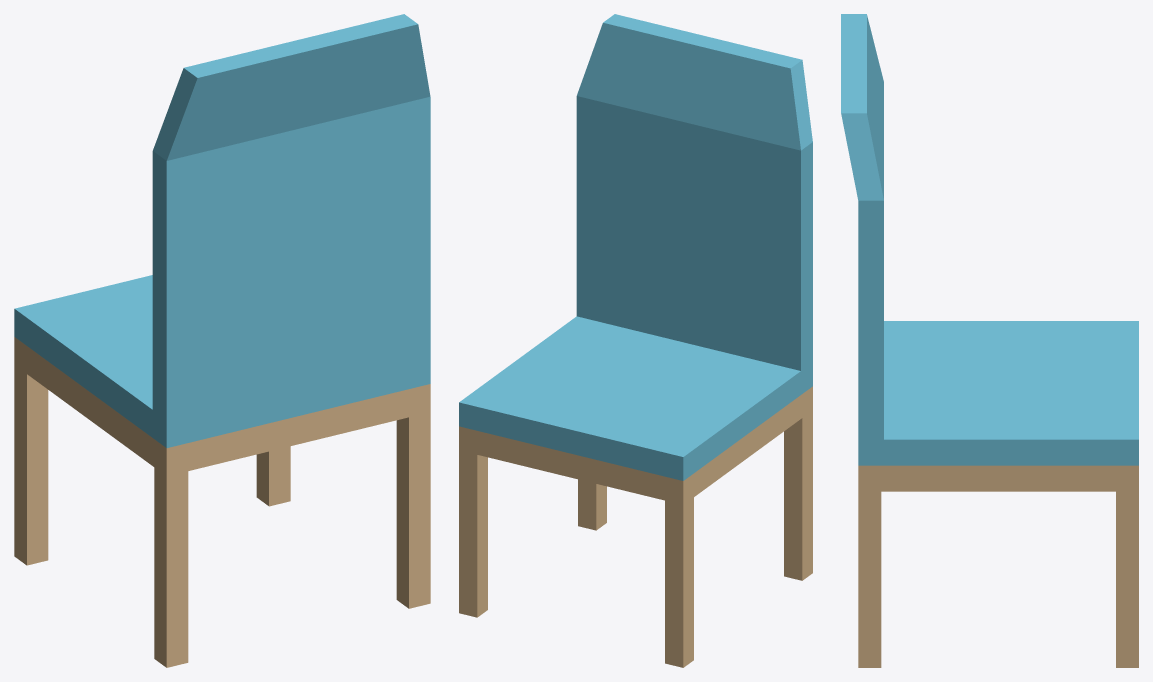
The model's file is chair2.glb.
The picture shows the model from 3 angles, left to right: view 1: azimuth 30°, elevation 25°; view 2: azimuth 150°, elevation 25°; view 3: azimuth 270°, elevation 25°; orthographic projection. The views are drawn at different scales.
Parts seen in each view (by area): view 1: Cushion, Leg; view 2: Cushion, Leg; view 3: Cushion, Leg.
Boxes of the visible parts, x1,y1,x2,y2 form: Cushion: [14, 14, 430, 447]; Leg: [14, 337, 430, 667]; Cushion: [459, 14, 812, 480]; Leg: [459, 386, 812, 667]; Cushion: [841, 14, 1138, 465]; Leg: [858, 465, 1138, 667].
Size of the model in its own units: 0.49 by 1.05 by 0.52.
